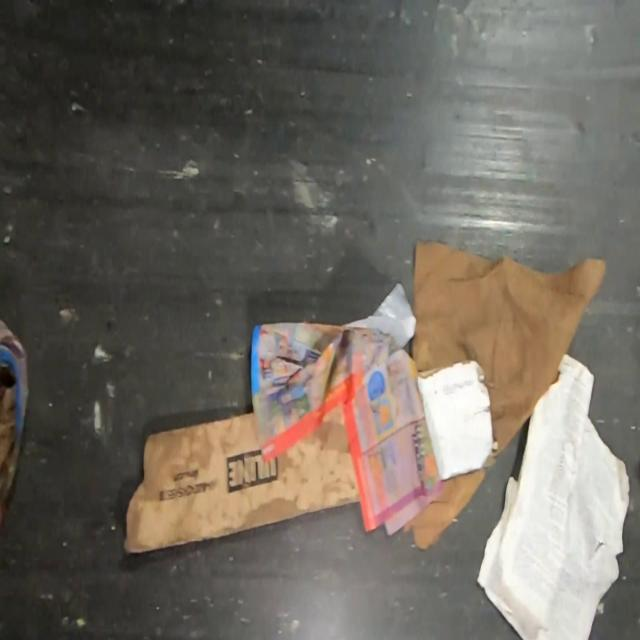cardboard: (122, 403, 360, 553), (414, 359, 494, 481)
soft_plastic: (345, 281, 417, 349)
